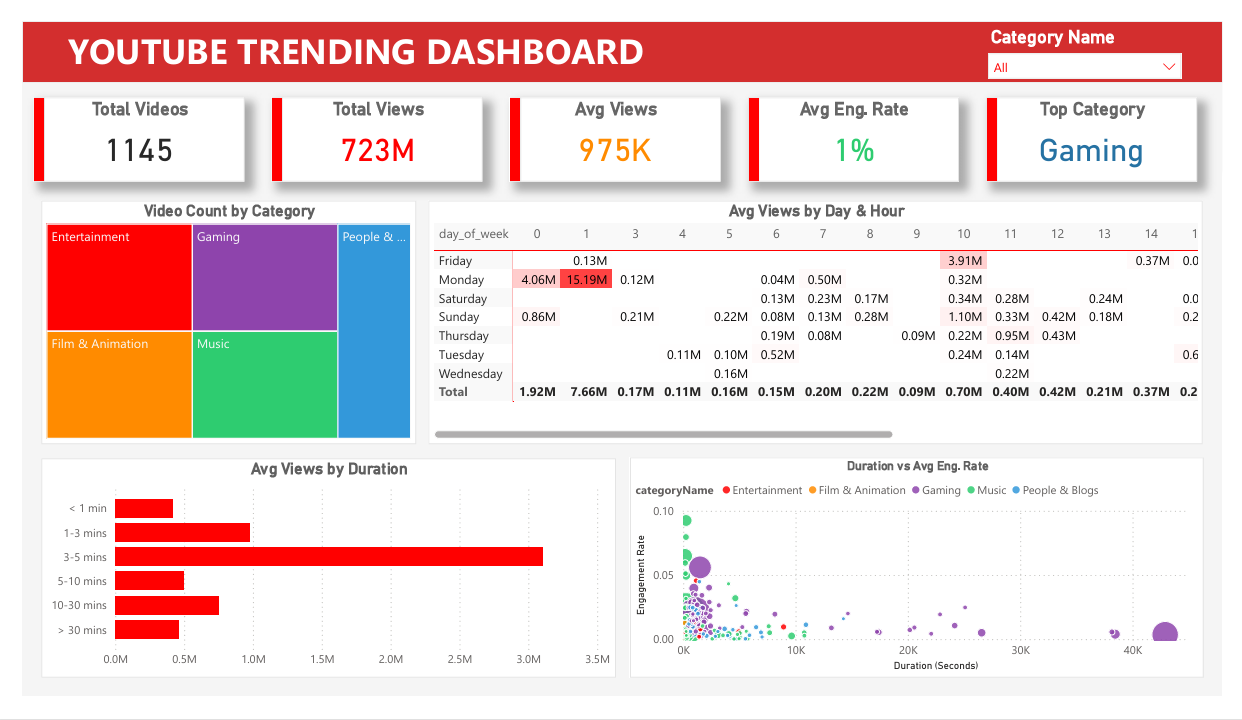

The dashboard page shown, as its layout file describes it:
{"tool":"powerbi","page":{"name":"OverView","canvas":[1280,720],"ordinal":0},"visuals":[{"type":"shape","box":[0,0,1280,65],"z":0},{"type":"advanceCardE03760C5AB684758B56AA29F9E6C257B","title":"Total Videos","fields":{"mainMeasure":["Sum(hashtag_performance.Total_Videos)"]},"box":[12,81,225,90],"z":1000},{"type":"advanceCardE03760C5AB684758B56AA29F9E6C257B","title":"Total Views","fields":{"mainMeasure":["Sum(hashtag_performance.Total_Views)"]},"box":[266,81,225,90],"z":2000},{"type":"advanceCardE03760C5AB684758B56AA29F9E6C257B","title":"Avg Views","fields":{"mainMeasure":["youtube_clean.Avg Views"]},"box":[520,81,225,90],"z":3000},{"type":"advanceCardE03760C5AB684758B56AA29F9E6C257B","title":"Avg Eng. Rate","fields":{"mainMeasure":["youtube_clean.Avg Engagement Rate"]},"box":[774,81,225,90],"z":4000},{"type":"advanceCardE03760C5AB684758B56AA29F9E6C257B","title":"Top Category","fields":{"mainMeasure":["youtube_clean.Top Category"]},"box":[1028,81,225,90],"z":5000},{"type":"treemap","title":"Video Count by Category","fields":{"Group":["youtube_clean.categoryName"],"Values":["Sum(hashtag_performance.Total_Videos)"]},"box":[20,191.4,400,260],"z":6000},{"type":"pivotTable","title":"Avg Views by Day & Hour","fields":{"Rows":["youtube_clean.day_of_week"],"Columns":["youtube_clean.publish_hour"],"Values":["youtube_clean.Avg Views"]},"box":[432.9,191.4,825.7,260],"z":7000},{"type":"clusteredBarChart","title":"Avg Views by Duration","fields":{"Y":["youtube_clean.Avg Views"],"Category":["youtube_clean.duration_bucket"]},"box":[20,465.7,612.9,234.3],"z":8000},{"type":"scatterChart","title":"Duration vs Avg Eng. Rate","fields":{"X":["Sum(youtube_clean.duration_sec)"],"Y":["Sum(youtube_clean.engagement_rate)"],"Series":["youtube_clean.categoryName"],"Size":["Sum(youtube_clean.viewCount)"],"Category":["youtube_clean.video_id"]},"box":[648,465,612,235],"z":9000},{"type":"textbox","box":[44,0,688,60],"z":10000},{"type":"slicer","fields":{"Values":["youtube_clean.categoryName"]},"box":[1020,0,226,76],"z":11000},{"type":"shape","box":[12,81,12,90],"z":12000},{"type":"shape","box":[266,81,11.7,90],"z":13000},{"type":"shape","box":[520,81,11.7,90],"z":14000},{"type":"shape","box":[774,81,11.7,90],"z":15000},{"type":"shape","box":[1028,81,11.7,90],"z":16000}]}

Visuals, with their boxes in screenshot pixels (x1, y1, x2, y2), scaled from the page's 1280x720 canvas onto the 1242x720 screenshot:
shape: 0/0/1241/65
"Total Videos" advanceCardE03760C5AB684758B56AA29F9E6C257B: 12/81/230/171
"Total Views" advanceCardE03760C5AB684758B56AA29F9E6C257B: 258/81/476/171
"Avg Views" advanceCardE03760C5AB684758B56AA29F9E6C257B: 505/81/723/171
"Avg Eng. Rate" advanceCardE03760C5AB684758B56AA29F9E6C257B: 751/81/969/171
"Top Category" advanceCardE03760C5AB684758B56AA29F9E6C257B: 997/81/1216/171
"Video Count by Category" treemap: 19/191/408/451
"Avg Views by Day & Hour" pivotTable: 420/191/1221/451
"Avg Views by Duration" clusteredBarChart: 19/466/614/700
"Duration vs Avg Eng. Rate" scatterChart: 629/465/1223/700
textbox: 43/0/710/60
slicer - youtube_clean.categoryName: 990/0/1209/76
shape: 12/81/23/171
shape: 258/81/269/171
shape: 505/81/516/171
shape: 751/81/762/171
shape: 997/81/1009/171
